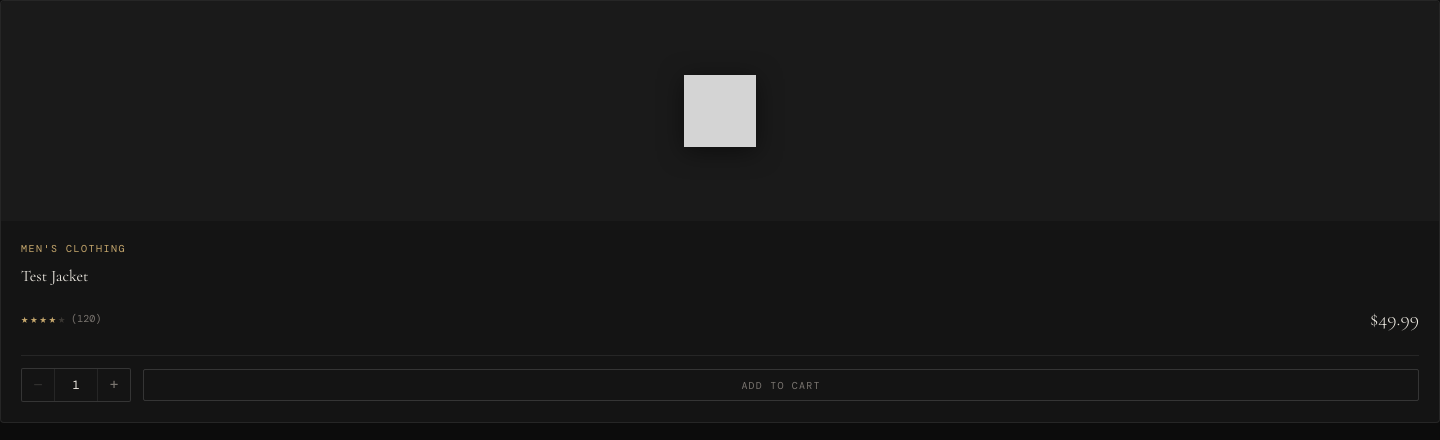
Test case: ProductCard › resets quantity to 1 after adding to cart
Note: Increment to 3
Click the button named "increase" at (114, 385), box [98,369,130,401]
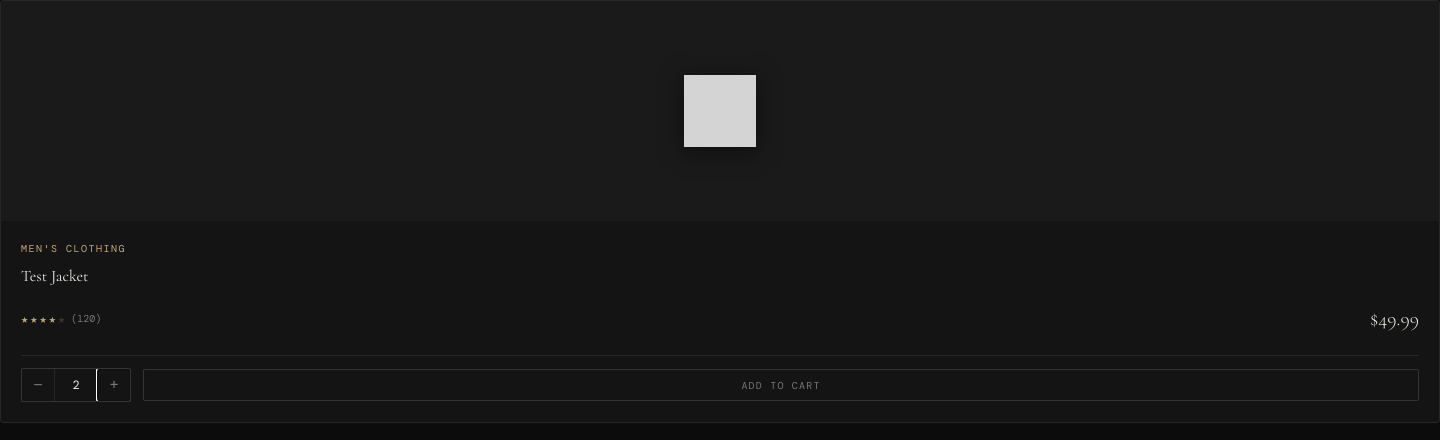
Click the button named "increase" at (114, 385), box [98,369,130,401]
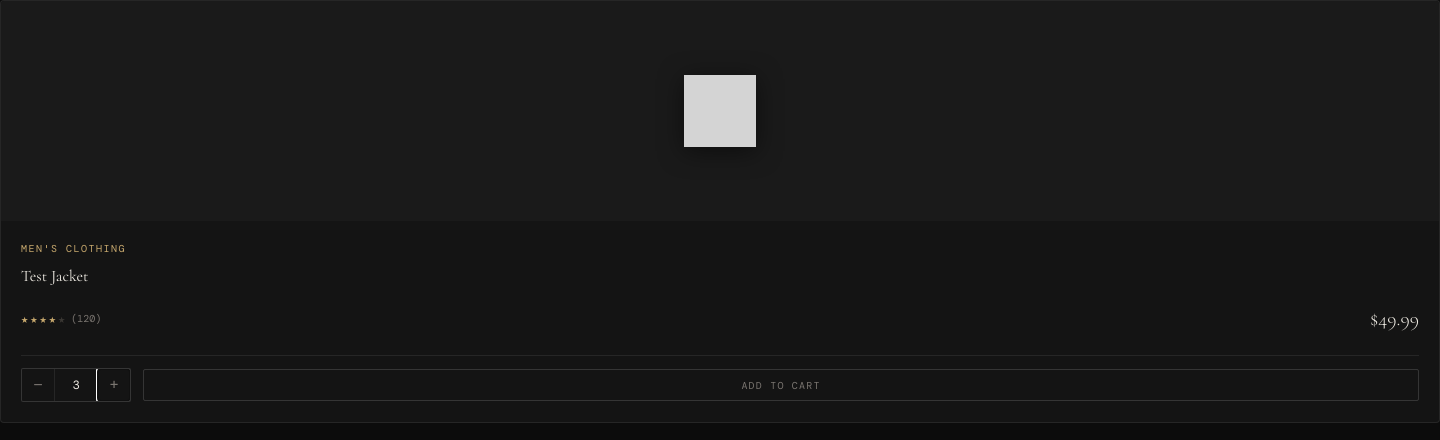
Check: the number field named "quantity" holds "3", box [54,369,98,401]
Click the button "Add to Cart" at (781, 385), box [143,369,1419,401]
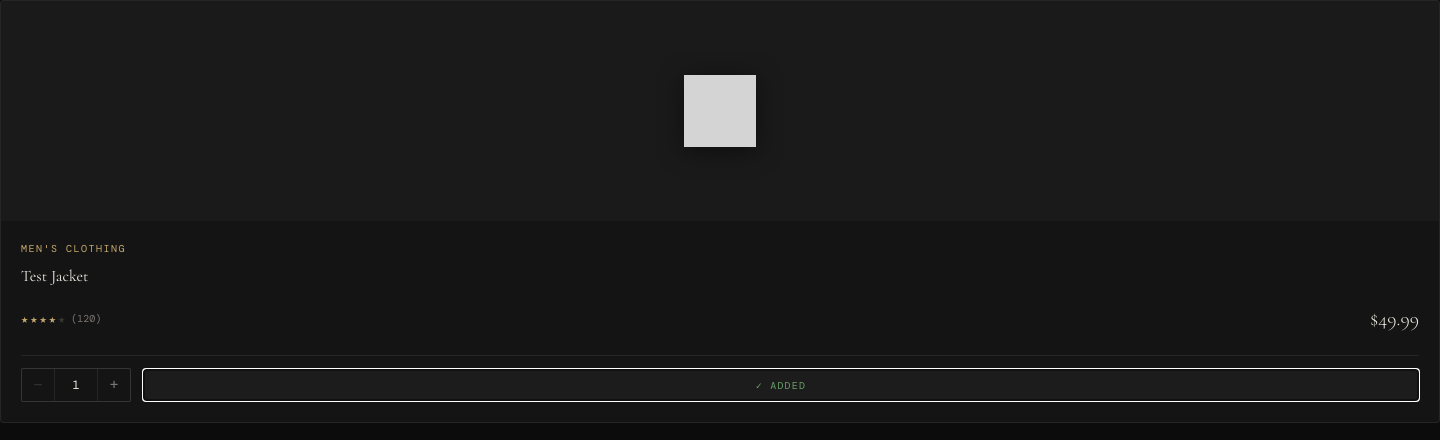
Check: the number field named "quantity" holds "1", box [54,369,98,401]
